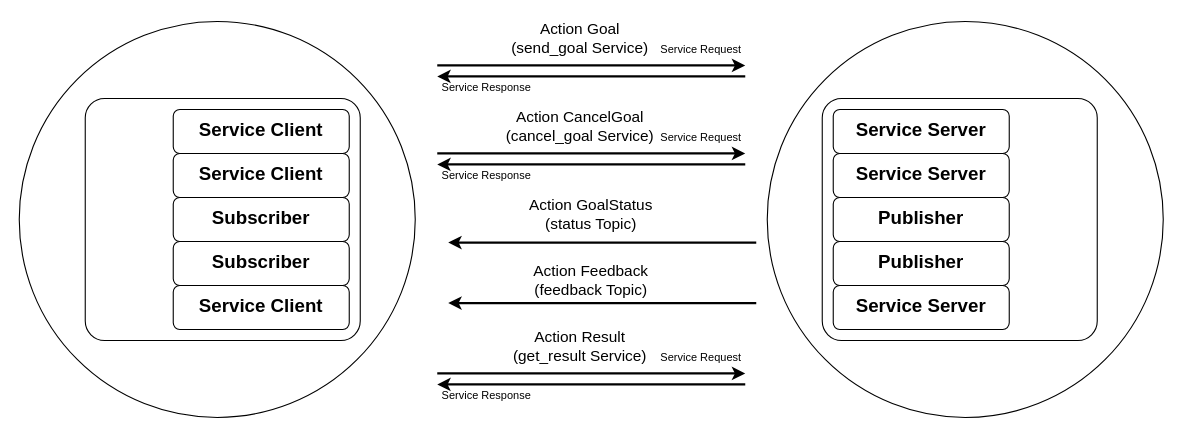
This 1183x437 diagram has some shape labels left out. The box of each missing label's shape, as (x1, y1, x2, y2) in pixels:
Action Client: (84, 97, 360, 340)
Action Server: (821, 97, 1097, 340)
